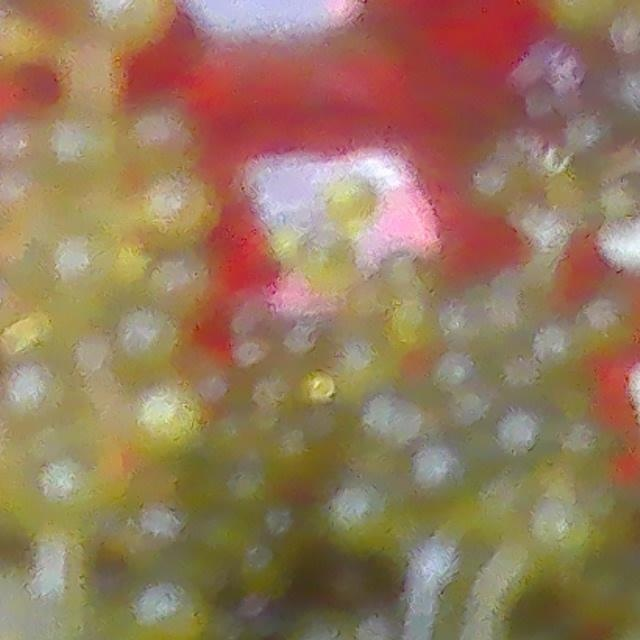SeaGrape: (137, 167, 218, 250), (325, 472, 406, 550), (43, 229, 116, 307), (51, 124, 124, 201), (114, 312, 180, 384), (86, 0, 174, 51), (132, 390, 200, 451), (0, 120, 59, 190), (138, 590, 200, 640), (0, 174, 48, 226)
